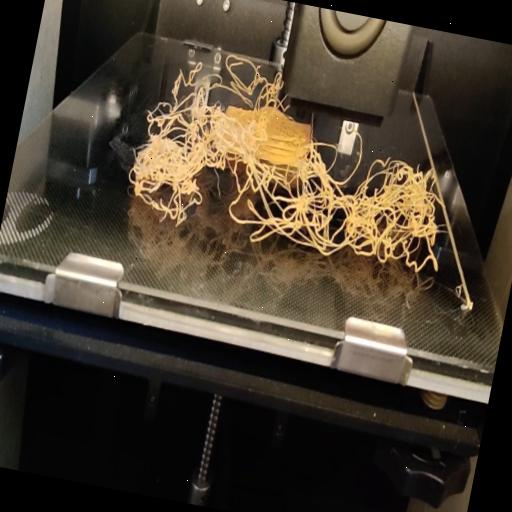spaghetti: (117, 80, 466, 274), (174, 36, 288, 110)
